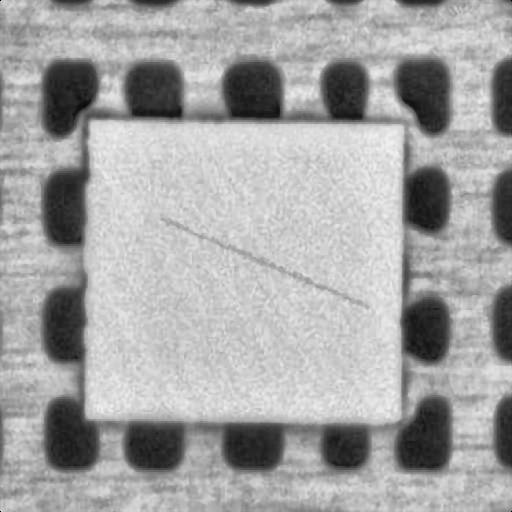DIE_CRACK: (212, 164, 486, 230)
